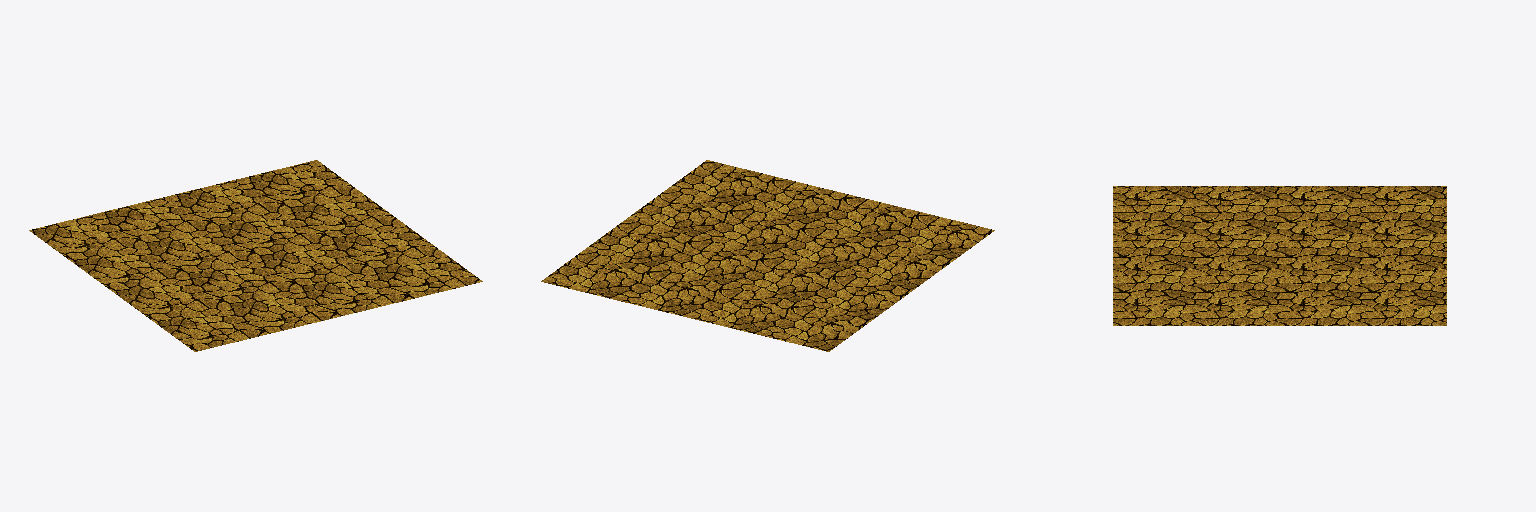
3 renders of one model, left to right at view 1: azimuth 30°, elevation 25°; view 2: azimuth 150°, elevation 25°; view 3: azimuth 270°, elevation 25°, orthographic.
Visible parts, largest first — view 1: mosaic_floor_x4; view 2: mosaic_floor_x4; view 3: mosaic_floor_x4.
Boxes of the visible parts, box(x1,y1,x2,y2) form: mosaic_floor_x4: box(29, 160, 482, 351); mosaic_floor_x4: box(541, 160, 994, 351); mosaic_floor_x4: box(1113, 186, 1446, 325).
Size of the model in its own units: 400 by 0 by 400.
Materials: 1 (1 with a texture image).